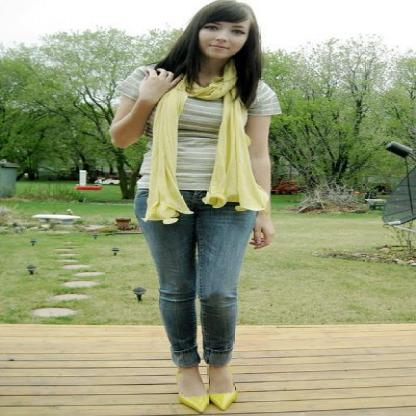pants: (115, 190, 258, 370)
shirt: (114, 65, 281, 193)
shoe: (179, 386, 207, 407)
